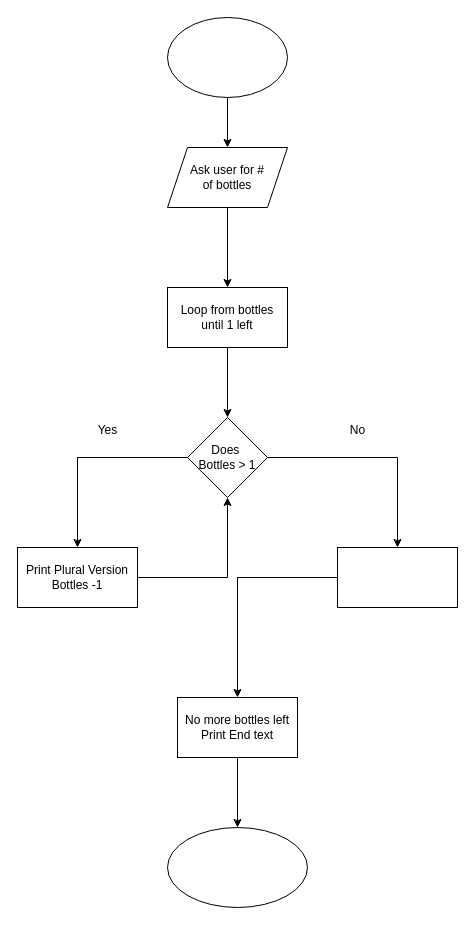
Some shapes in this 475 by 925 pixel diagram are drawn without their labels. Each missing label, with the box of its shape:
Print Singular version: (336, 546, 458, 608)
Start: (166, 16, 288, 98)
